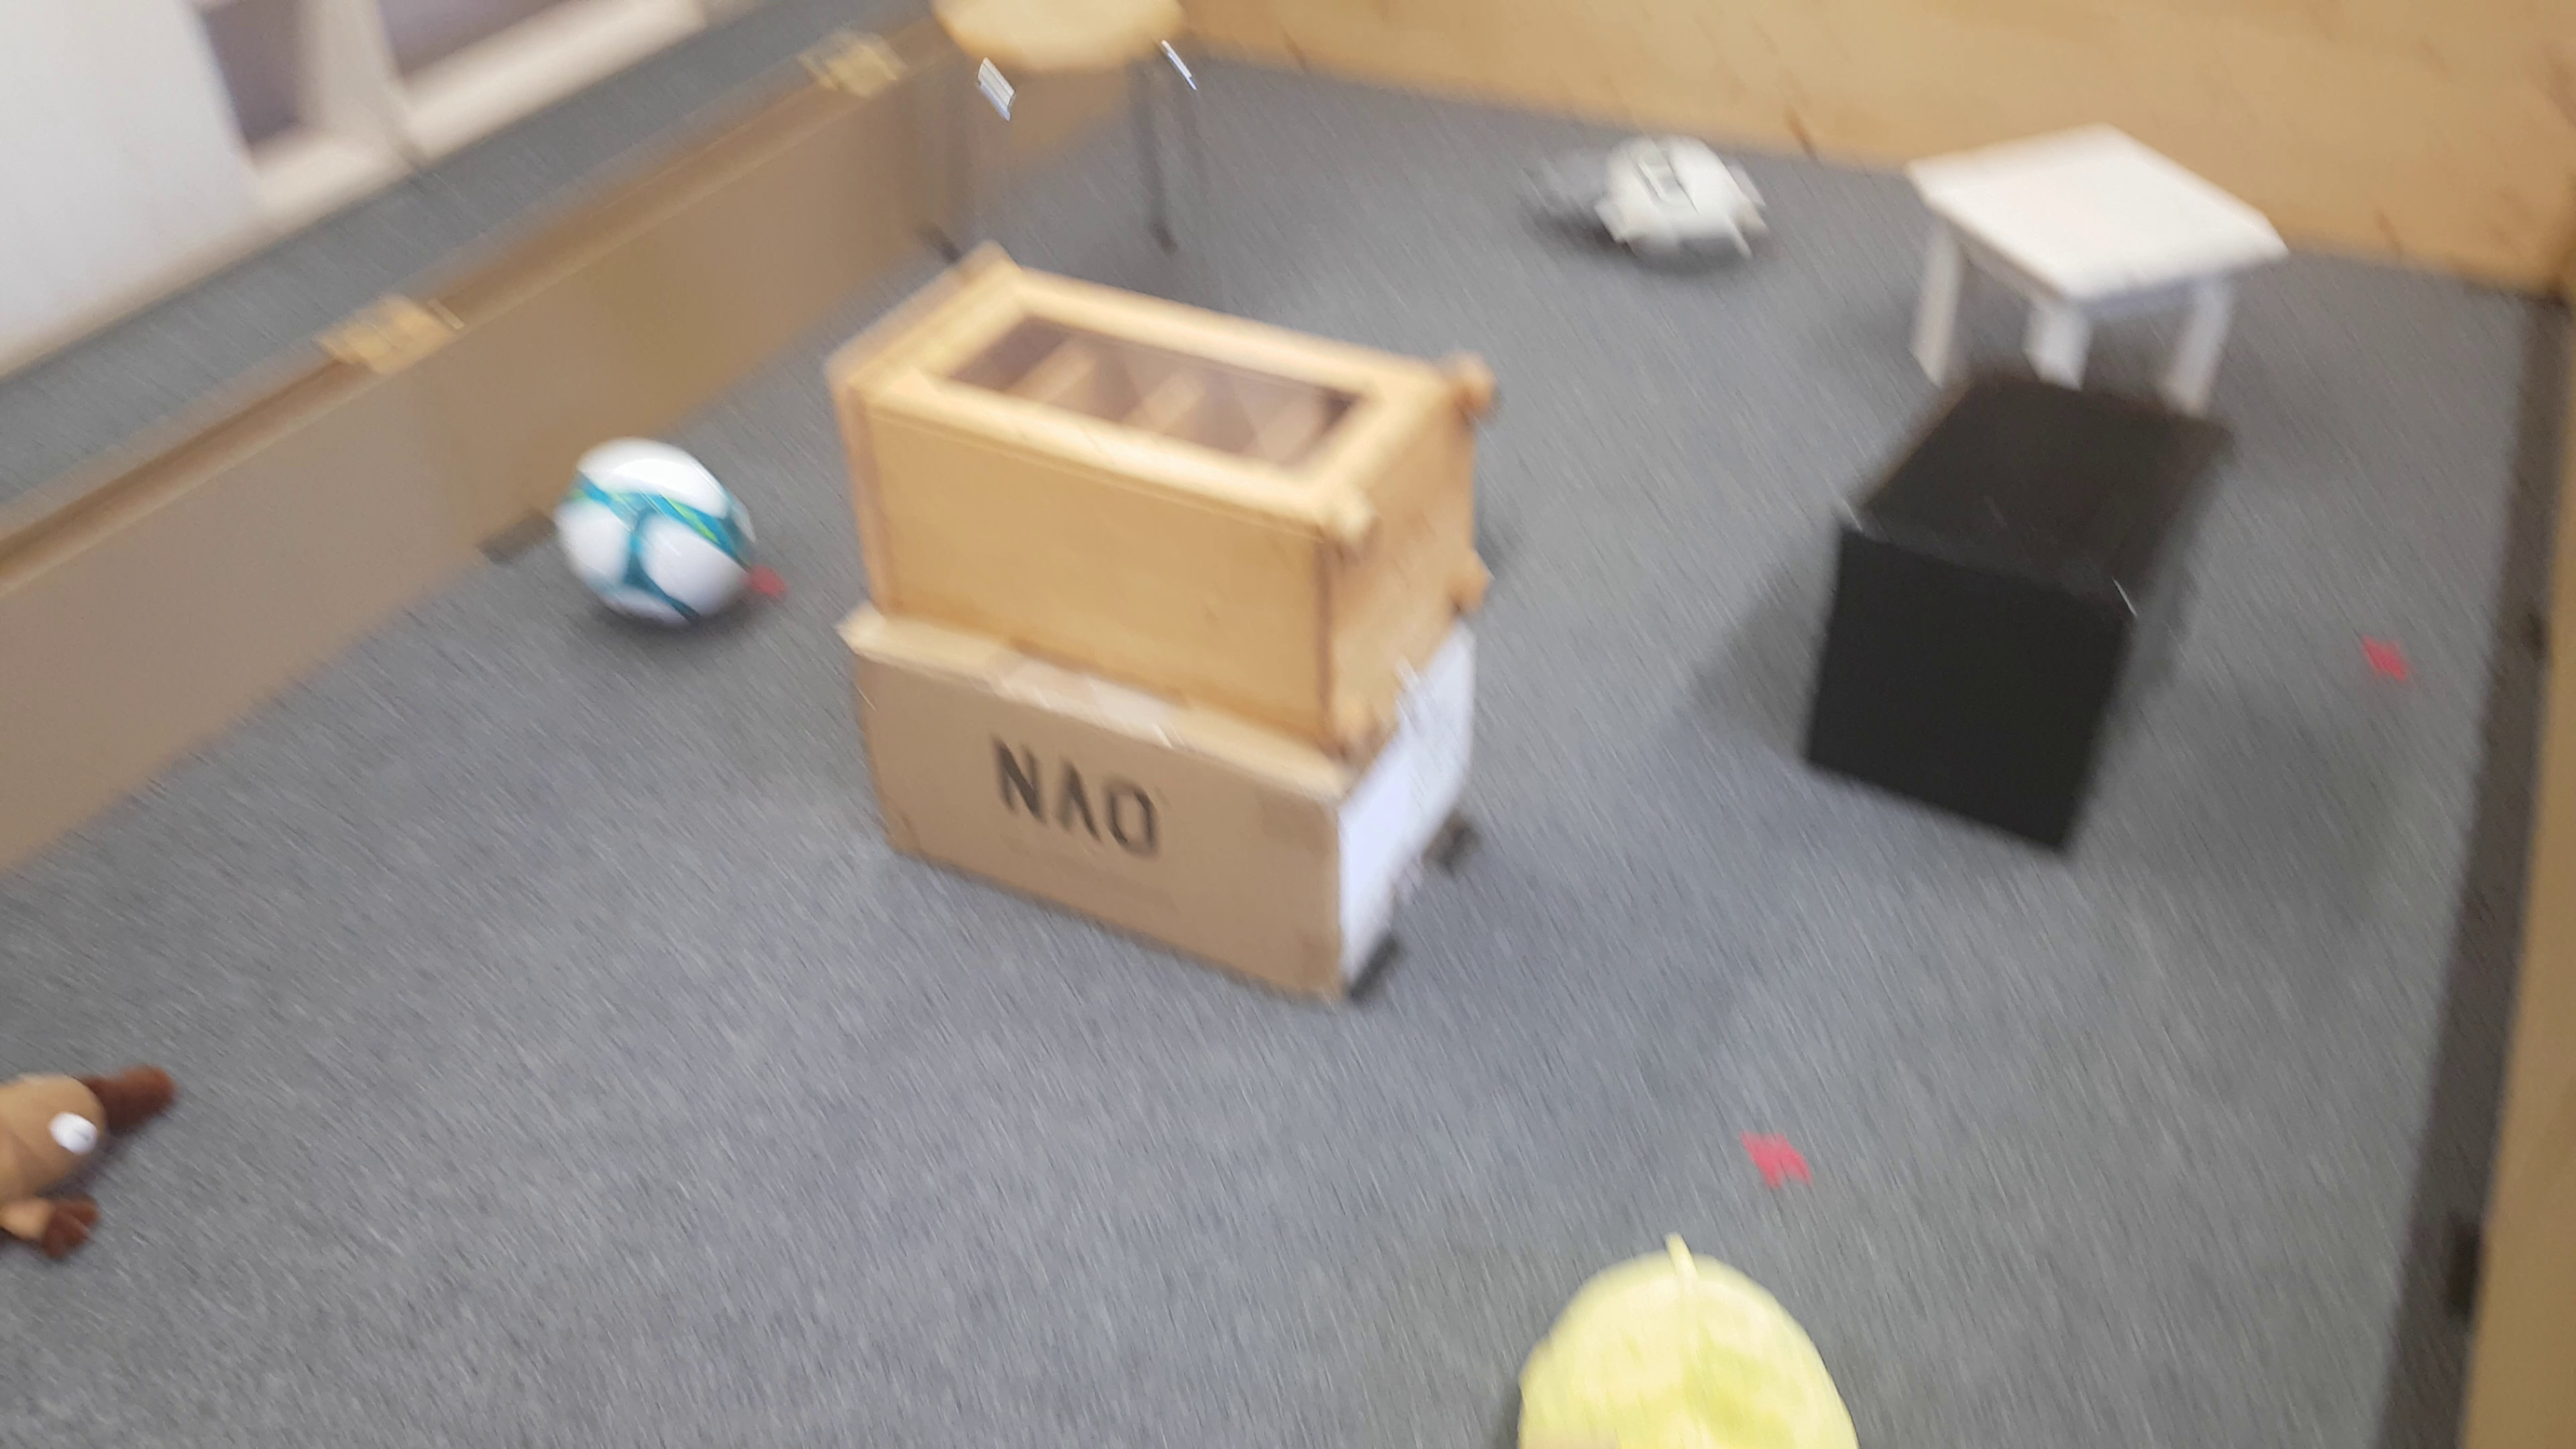grasp: (1514, 1235, 1856, 1449), (1514, 133, 1769, 278), (4, 1062, 186, 1263)
kick: (550, 439, 759, 625)
push: (1796, 372, 2249, 869)
